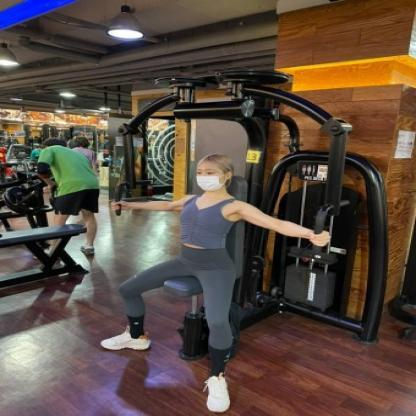chest fly machine: (17, 53, 416, 416)
